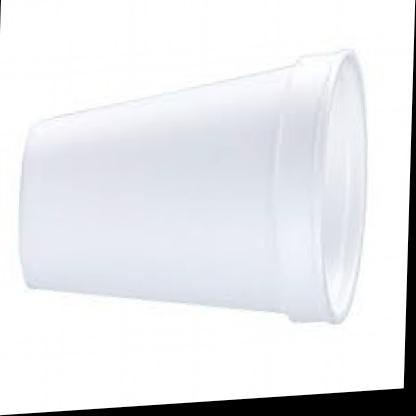trash: (20, 50, 366, 321)
